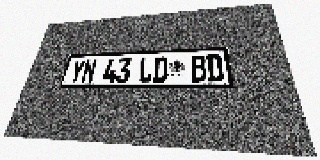3: (115, 58, 132, 83)
4: (102, 58, 119, 83)
B: (191, 55, 207, 82)
D: (206, 54, 224, 82), (152, 56, 168, 82)
L: (138, 57, 154, 83)
N: (80, 59, 98, 83)
Y: (68, 60, 86, 83)
